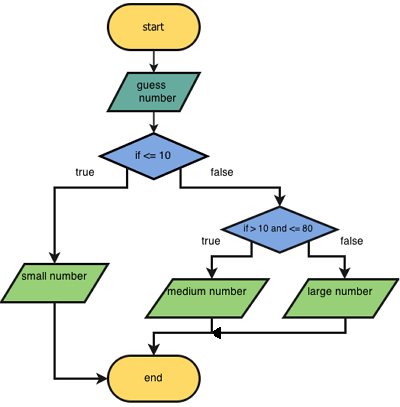arrow: (47, 168, 131, 262), (51, 301, 109, 384), (177, 165, 285, 204), (212, 316, 349, 339), (148, 317, 215, 355), (206, 240, 257, 276), (305, 241, 350, 278), (148, 110, 159, 134), (149, 49, 159, 73)
data: (142, 276, 270, 320), (279, 276, 400, 322), (1, 260, 112, 307), (104, 70, 204, 115)
decision: (220, 205, 338, 255), (96, 133, 211, 181)
terminator: (105, 352, 204, 405), (107, 2, 204, 52)
text: (135, 78, 179, 105), (165, 284, 250, 297), (306, 284, 376, 299), (19, 270, 90, 283), (241, 221, 314, 233), (133, 147, 171, 162), (338, 233, 366, 249), (209, 165, 237, 179), (141, 20, 166, 33), (74, 165, 97, 179), (140, 372, 166, 384), (198, 234, 224, 245)
